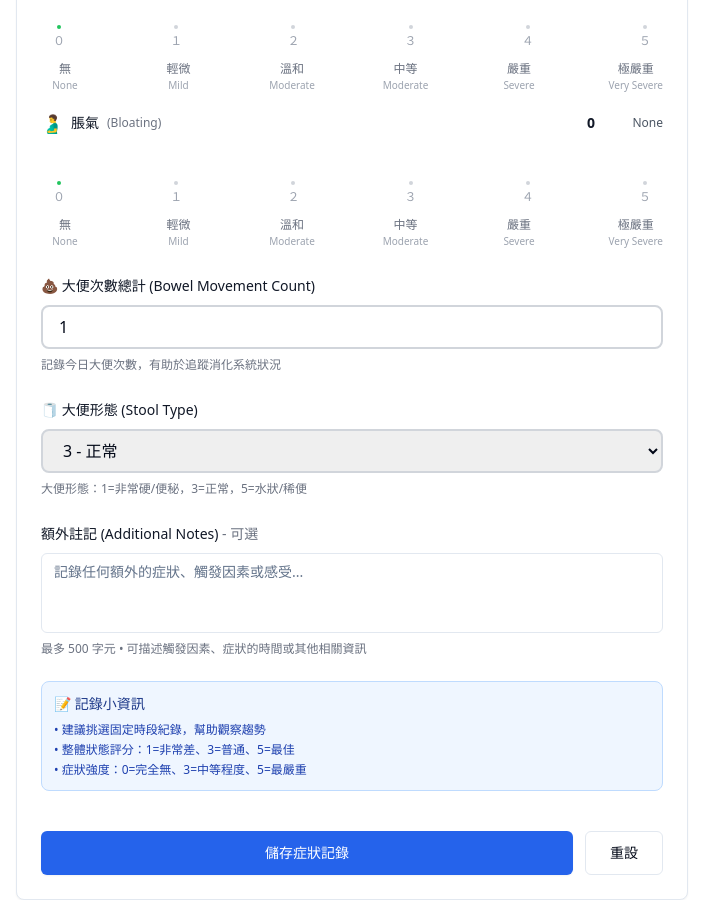
Test case: QuickSymptomEntry › Loading States › should show submitting state during submission
The width and height of the screenshot is (705, 900).
(page scrolled)
Click the button "儲存症狀記錄".
click(307, 853)  # box [41, 831, 573, 875]
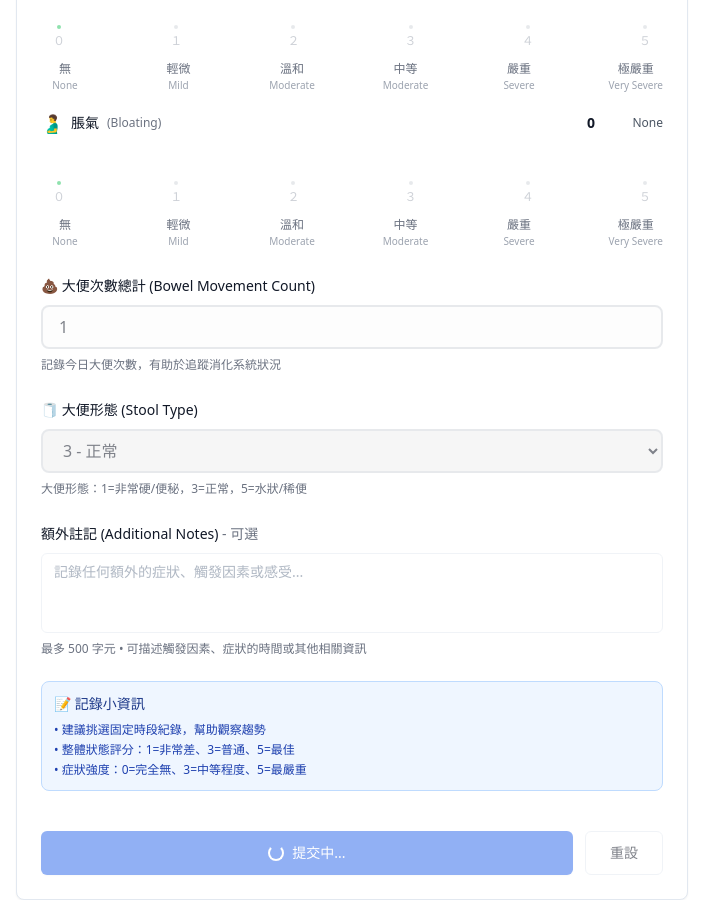
Check: the text "提交中..." is shown, box [292, 843, 346, 863]
